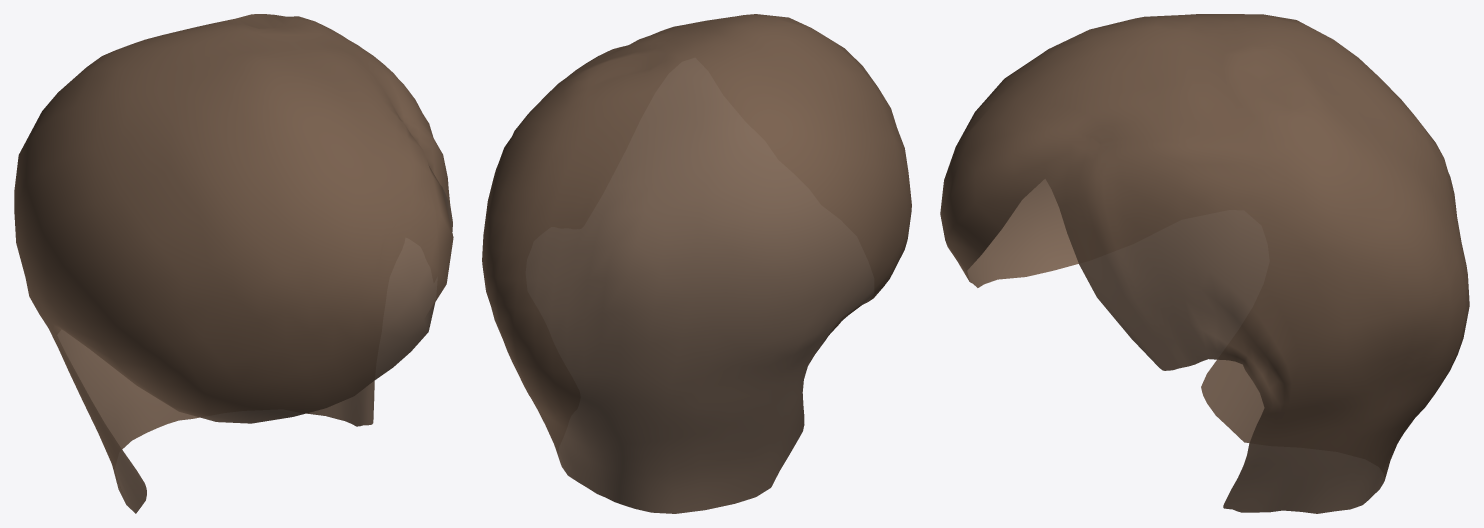
The model's file is short03.glb.
3 views of the same model, side by side, from view 1: azimuth 30°, elevation 25°; view 2: azimuth 150°, elevation 25°; view 3: azimuth 270°, elevation 25° (orthographic). The views are drawn at different scales.
Visible parts, largest first — view 1: short03; view 2: short03; view 3: short03.
Boxes of the visible parts, box(x1,y1,x2,y2) form: short03: box(14, 14, 453, 513); short03: box(482, 14, 911, 513); short03: box(940, 14, 1469, 513).
Size of the model in its own units: 0.1652 by 0.1947 by 0.2055.
